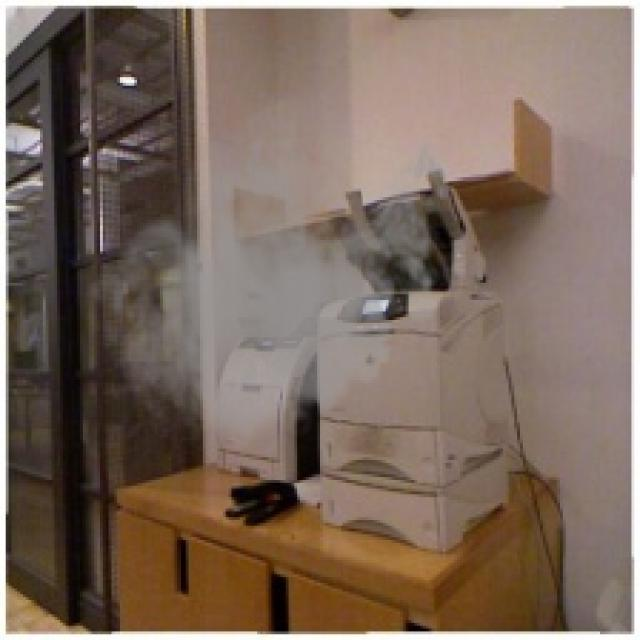smoke: (86, 74, 460, 463)
